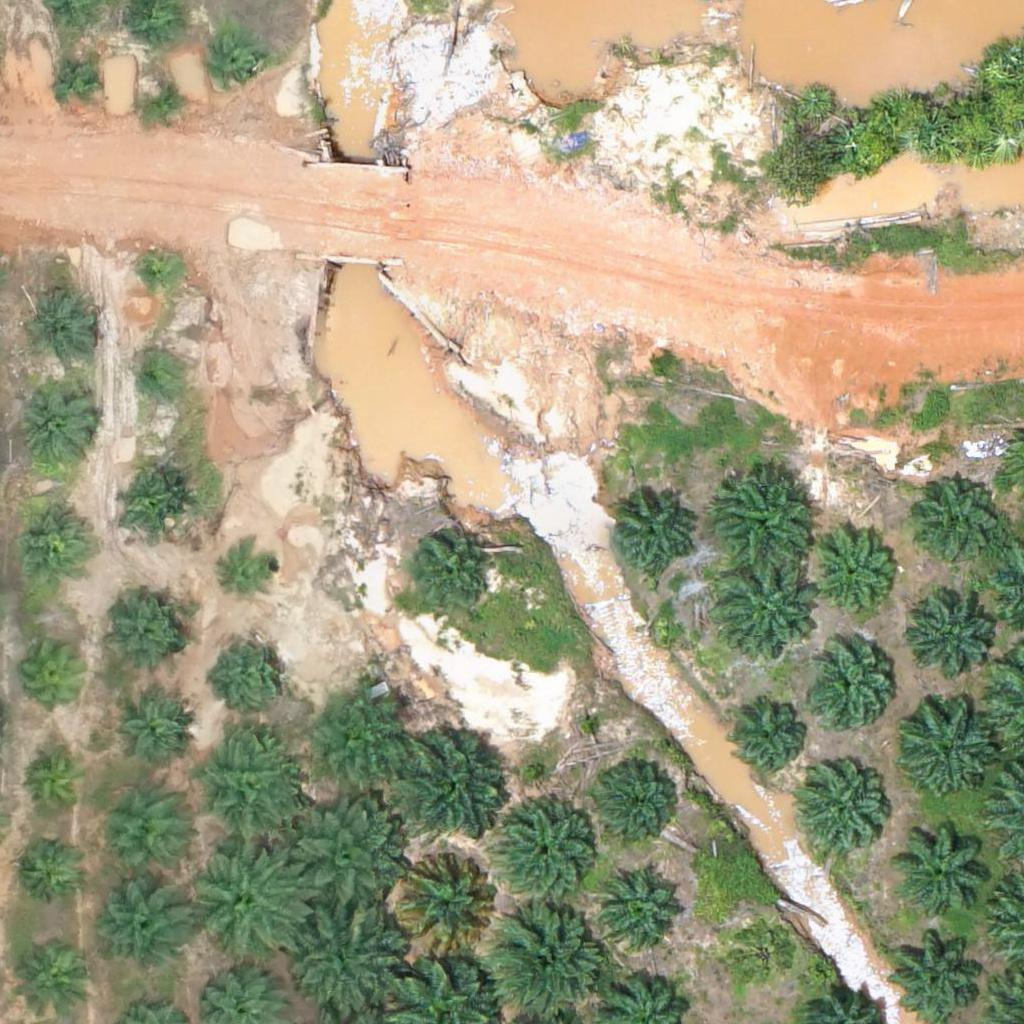Kelapa_Sawit: (185, 833, 310, 959), (388, 718, 513, 844), (484, 894, 609, 1020), (277, 798, 402, 923), (390, 847, 503, 960), (302, 681, 414, 795), (491, 797, 603, 911), (192, 733, 304, 846), (890, 817, 990, 918), (717, 560, 817, 661), (713, 467, 813, 568), (91, 789, 191, 889), (895, 698, 995, 798), (105, 594, 193, 682), (916, 477, 1004, 565), (809, 532, 897, 620), (806, 645, 894, 733), (798, 768, 886, 856), (608, 492, 696, 580), (109, 691, 196, 779), (407, 533, 494, 621), (726, 692, 813, 780), (100, 879, 187, 967), (910, 596, 997, 684), (600, 862, 687, 950), (595, 757, 682, 845), (22, 288, 97, 364), (113, 469, 188, 545), (16, 944, 91, 1020), (11, 833, 86, 909), (17, 745, 92, 821), (215, 632, 290, 708), (22, 385, 97, 461), (726, 915, 801, 991), (14, 503, 89, 578), (20, 636, 95, 711), (220, 541, 282, 604), (53, 54, 103, 105), (139, 75, 189, 126), (210, 41, 260, 91), (132, 249, 182, 299), (128, 356, 178, 406)
